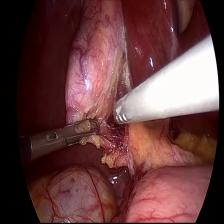Grasper: (59, 115, 101, 147)
Irrigator: (111, 89, 142, 129)
